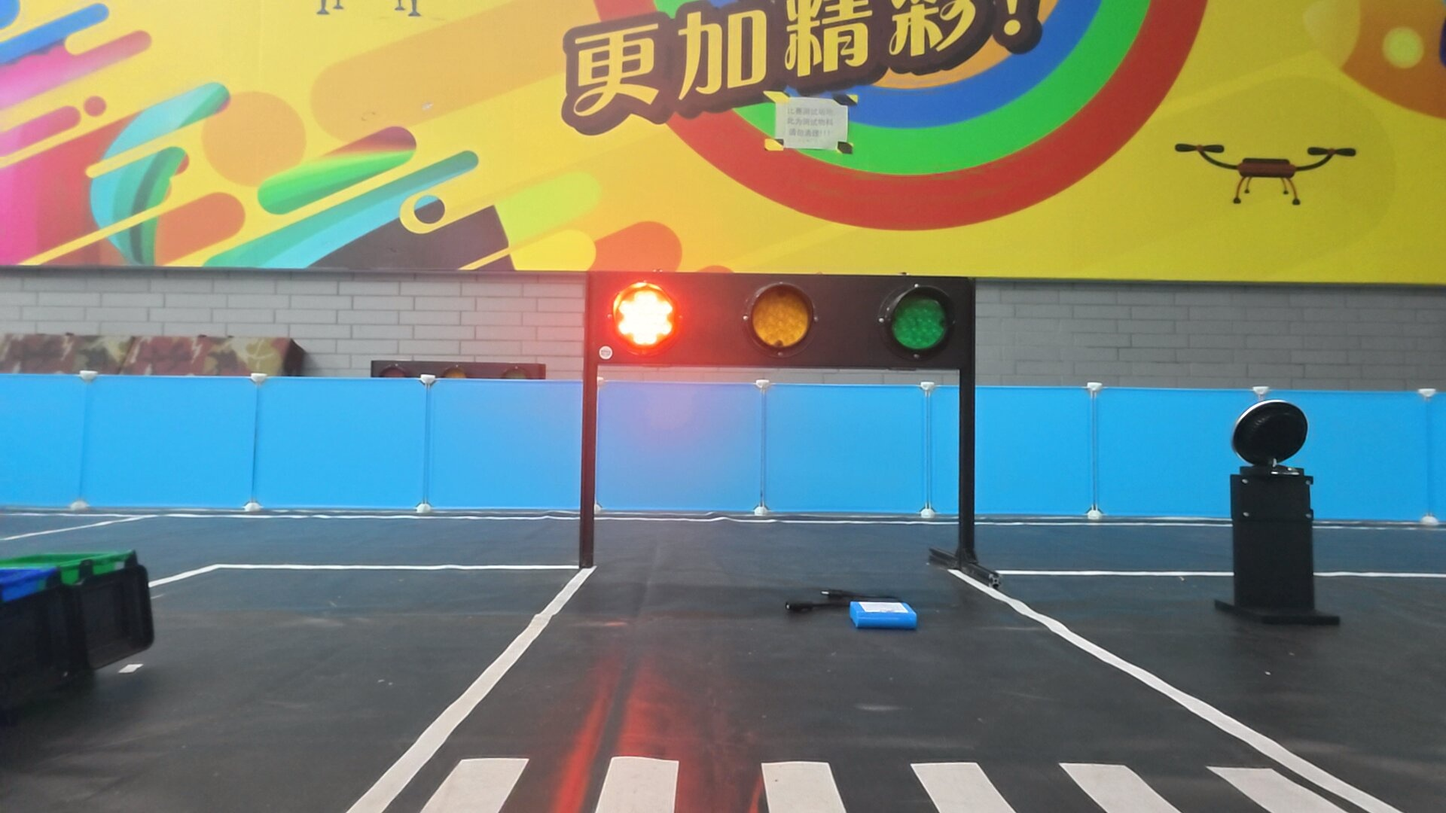stop: (608, 278, 681, 354)
